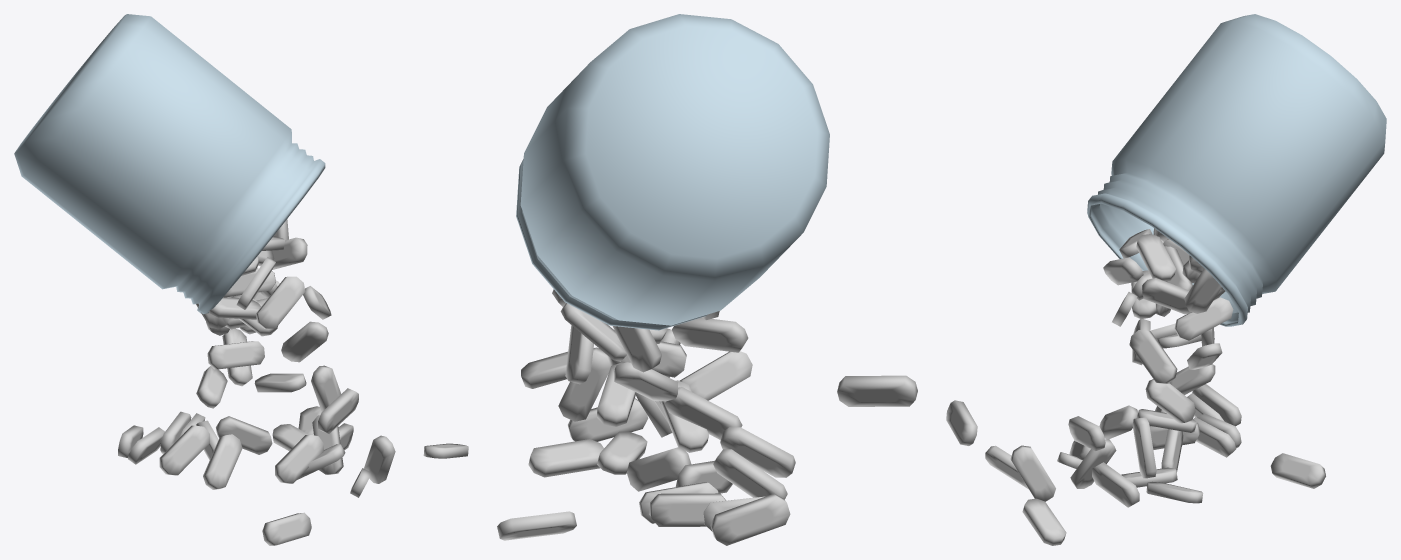
File: Tramadol.fbx
3 renders of one model, left to right at view 1: azimuth 30°, elevation 25°; view 2: azimuth 150°, elevation 25°; view 3: azimuth 270°, elevation 25°, orthographic. The views are drawn at different scales.
Parts seen in each view (by area): view 1: tramadol.botol, tramadol; view 2: tramadol.botol, tramadol; view 3: tramadol.botol, tramadol.
Part boxes in pixels (<box>): tramadol.botol: <box>14,14,325,314</box>; tramadol: <box>118,219,468,545</box>; tramadol.botol: <box>516,14,829,330</box>; tramadol: <box>497,289,917,545</box>; tramadol.botol: <box>1087,14,1386,326</box>; tramadol: <box>946,228,1325,545</box>.
Bounding box in the file's own units: 224 × 267 × 256.
